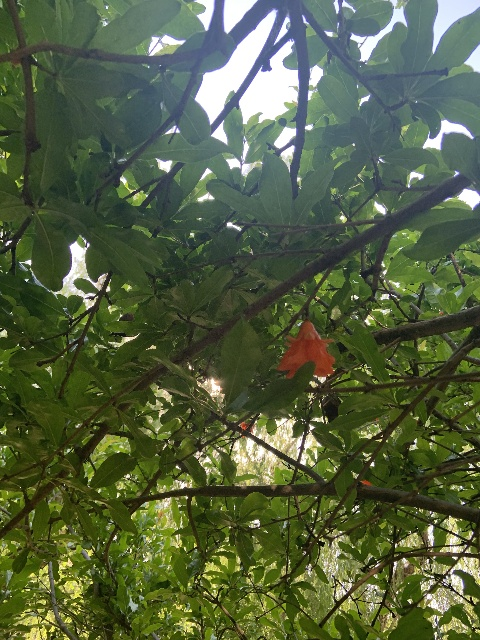flower: (276, 319, 335, 379), (239, 422, 255, 438)
